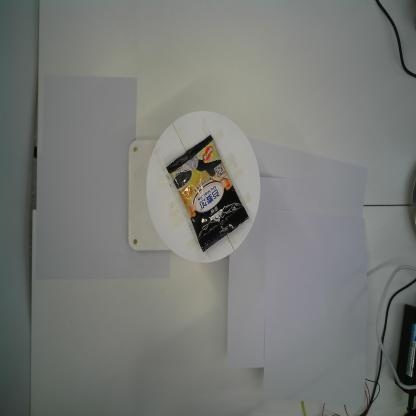Instant Drink: (166, 134, 250, 254)
